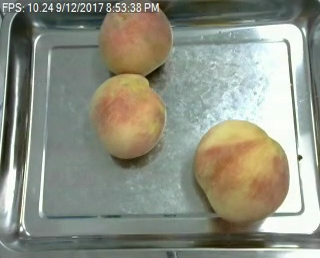Peach: (194, 118, 289, 224), (90, 72, 166, 160), (99, 1, 173, 78)
